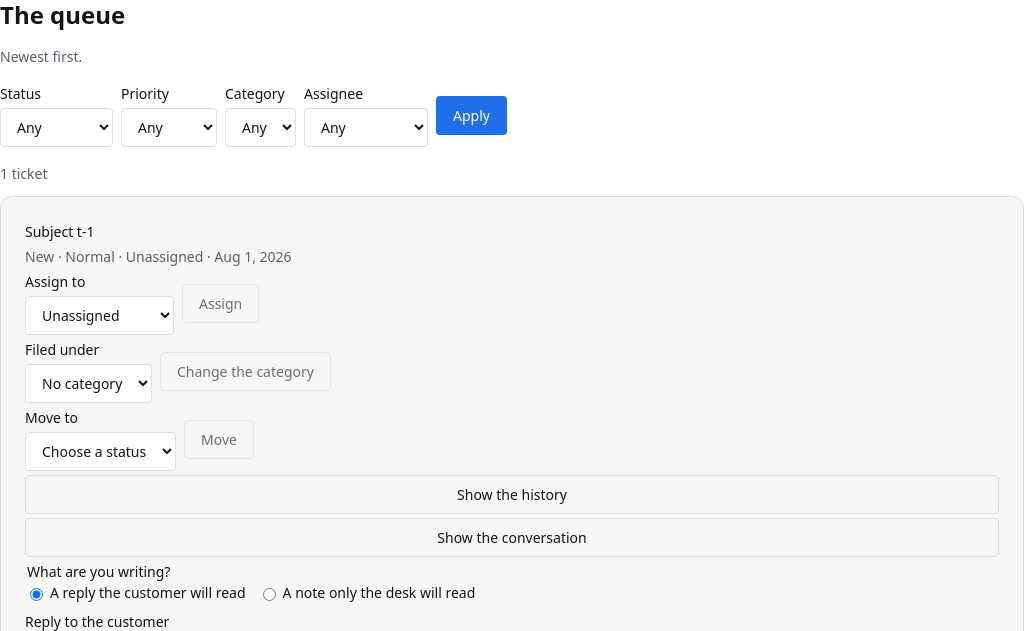
it: any other failure is reported as itself, not as a stale write
Expected: the text "Subject t-1" is shown, [25,222,94,241]
Select "Sofia Martinez" in the dropdown labelled "Assign to": (100, 316) [25,296,174,335]
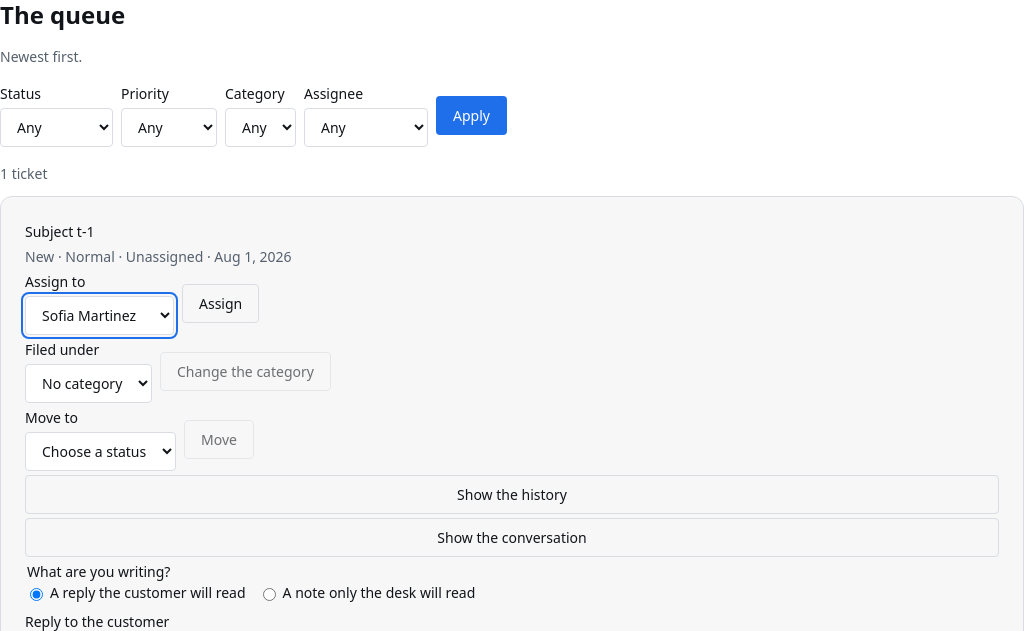
Click the button "Assign": (221, 303) [182,284,259,322]
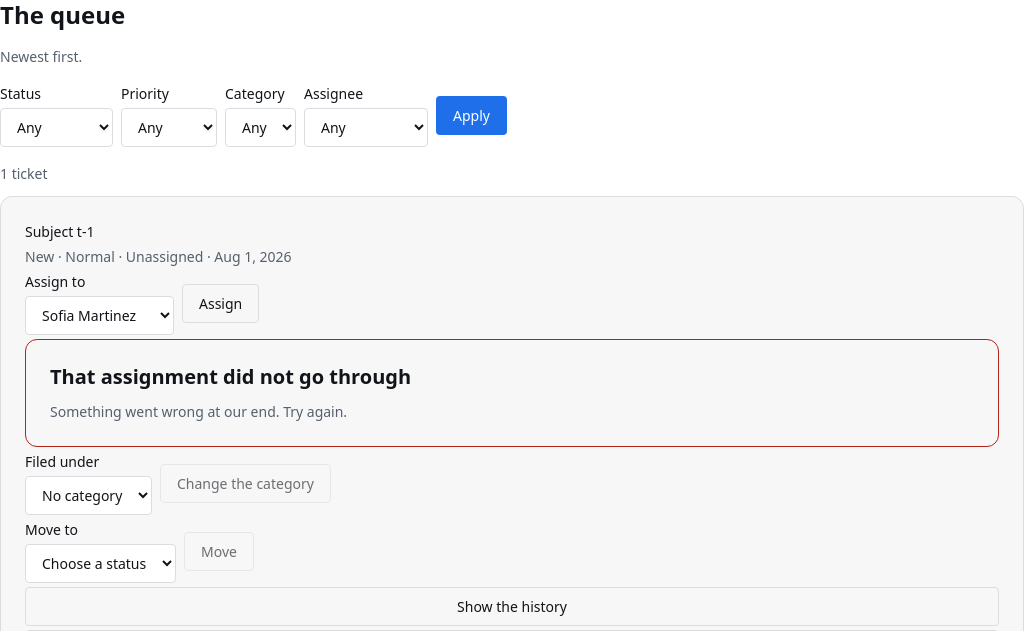
Expected: the heading "That assignment did not go through" is shown, [50,363,411,390]
